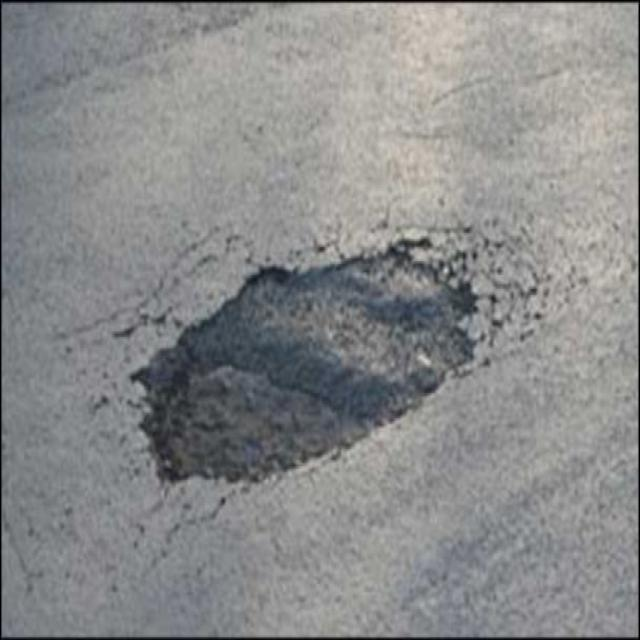pothole: (122, 230, 480, 492)
